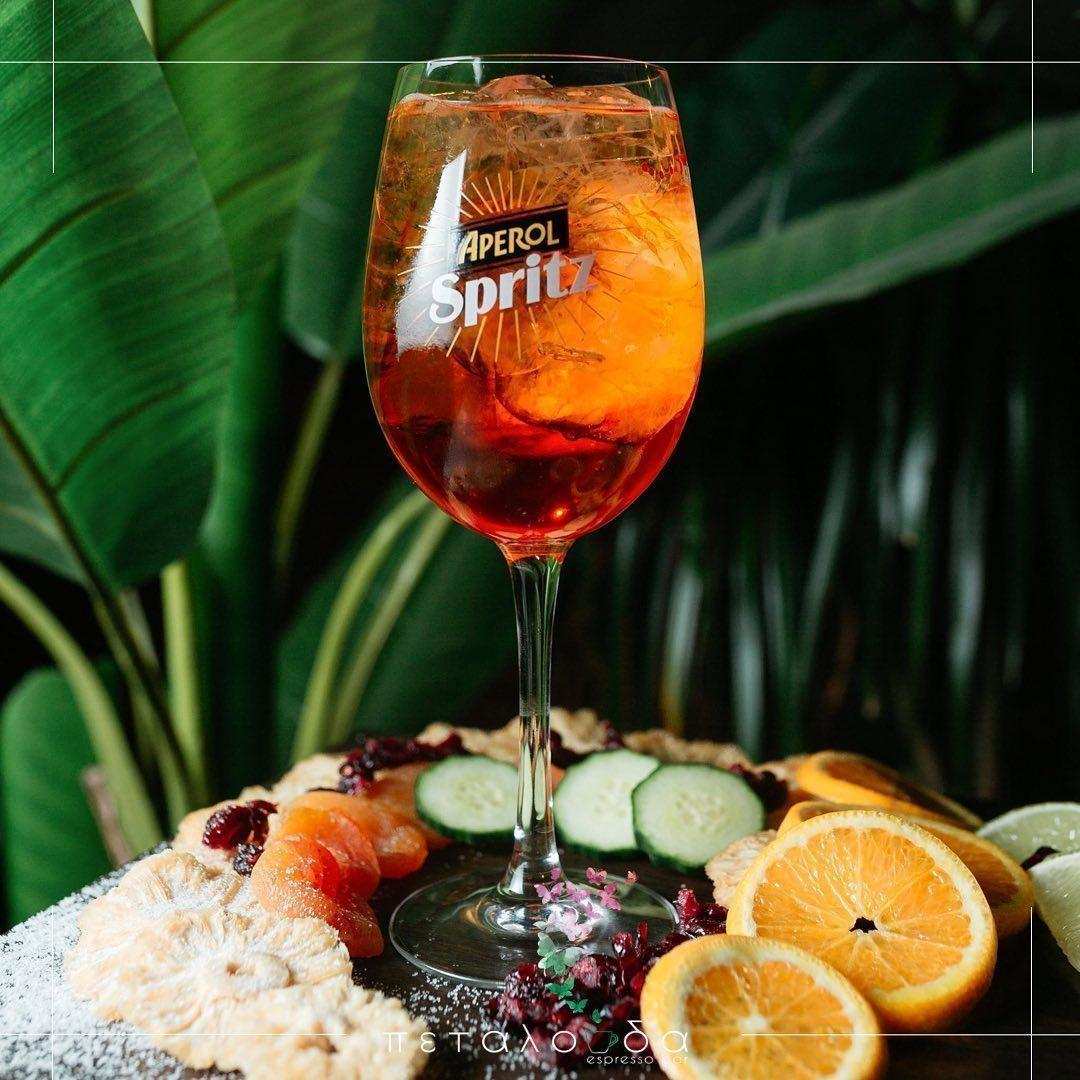glass-wine: (346, 43, 721, 1011)
